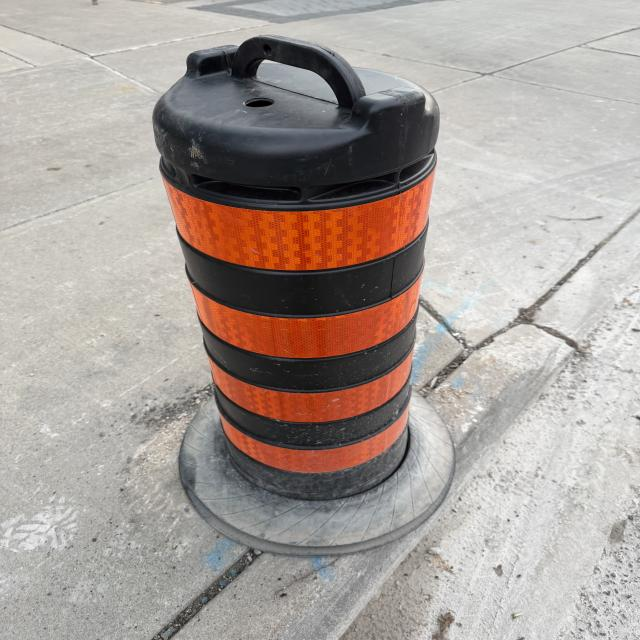Teraffic Barrel: (153, 36, 439, 500)
